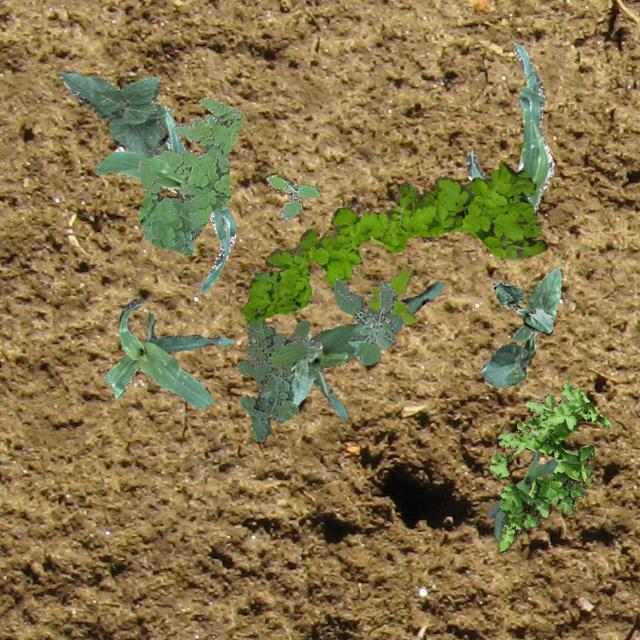crop: (93, 104, 235, 292), (290, 282, 442, 419), (102, 296, 234, 408), (466, 42, 554, 210), (479, 266, 562, 386), (58, 70, 166, 156), (486, 448, 558, 540), (274, 334, 320, 422), (492, 280, 552, 332)
weed: (240, 160, 546, 322), (488, 378, 610, 552), (136, 96, 242, 255), (236, 318, 308, 440), (332, 277, 393, 363), (366, 270, 414, 322), (266, 173, 318, 220)
